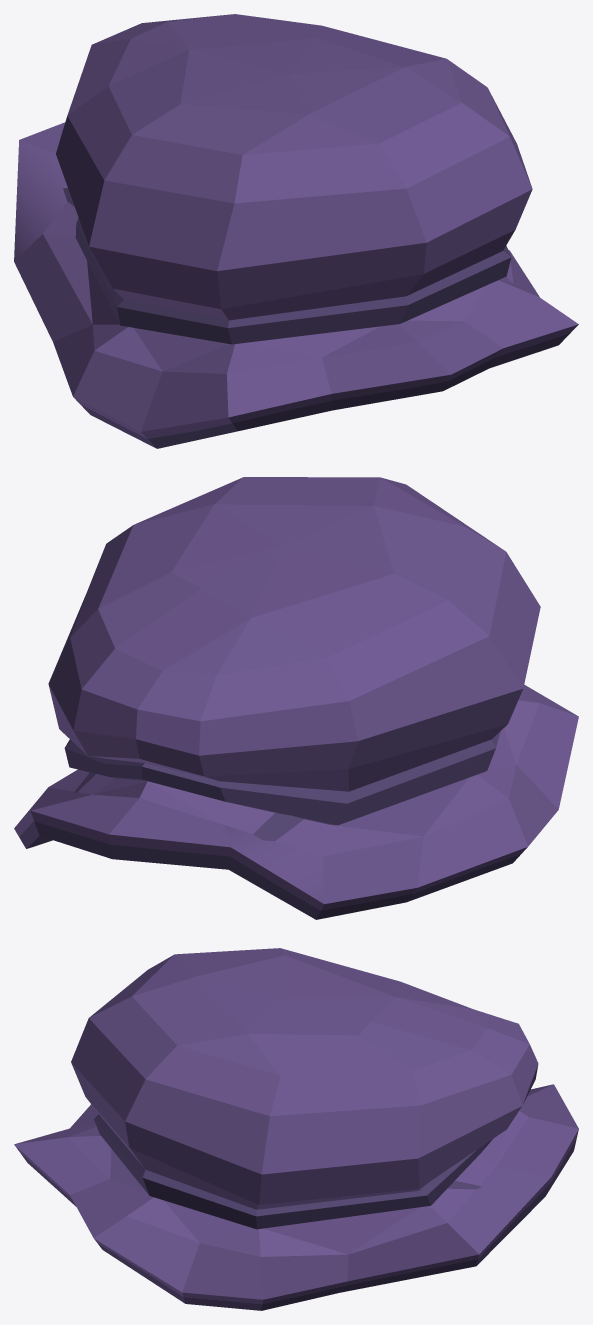
The model's file is SM_Chr_Attach_Grandma_Hat_01.fbx.
3 views of the same model, one above another, from view 1: azimuth 30°, elevation 25°; view 2: azimuth 150°, elevation 25°; view 3: azimuth 270°, elevation 25° (orthographic). The views are drawn at different scales.
Visible parts, largest first — view 1: SM_Chr_Attach_Grandma_Hat_01; view 2: SM_Chr_Attach_Grandma_Hat_01; view 3: SM_Chr_Attach_Grandma_Hat_01.
Boxes of the visible parts, box(x1,y1,x2,y2) form: SM_Chr_Attach_Grandma_Hat_01: box(14, 14, 578, 448); SM_Chr_Attach_Grandma_Hat_01: box(14, 477, 578, 919); SM_Chr_Attach_Grandma_Hat_01: box(14, 948, 578, 1310).
Bounding box in the file's own units: 27.07 × 16.84 × 35.23.
